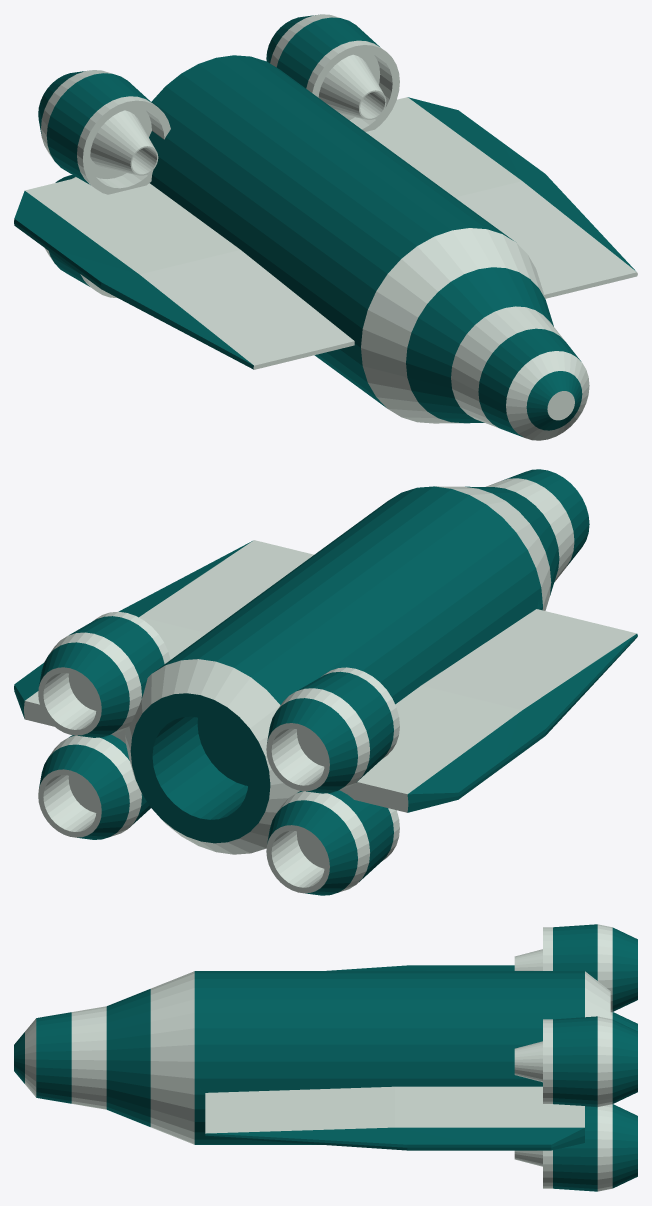
File: spacecraft.glb
The picture shows the model from 3 angles, top to bottom: view 1: azimuth 30°, elevation 25°; view 2: azimuth 150°, elevation 25°; view 3: azimuth 270°, elevation 25°; orthographic projection. The views are drawn at different scales.
Parts seen in each view (by area): view 1: spacecraft, engine; view 2: spacecraft, engine; view 3: spacecraft, engine.
Boxes of the visible parts, left/top/right/bottom form: spacecraft: left=14, top=55, right=637, bottom=440; engine: left=38, top=14, right=399, bottom=297; spacecraft: left=14, top=469, right=637, bottom=854; engine: left=38, top=611, right=399, bottom=895; spacecraft: left=14, top=965, right=610, bottom=1150; engine: left=514, top=924, right=637, bottom=1191.
Size of the model in its own units: 5.71 by 2.47 by 8.39.
